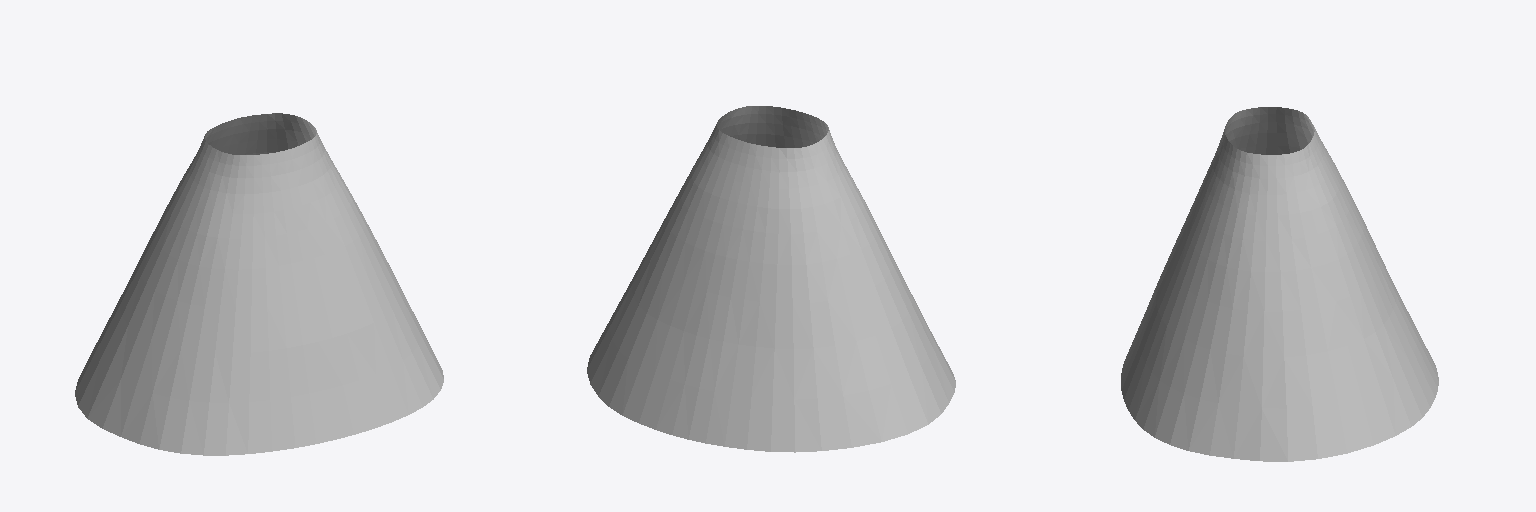
Rendered from 12_skirtlongfull.obj.
The picture shows the model from 3 angles: view 1: azimuth 30°, elevation 25°; view 2: azimuth 150°, elevation 25°; view 3: azimuth 270°, elevation 25°; orthographic projection.
Parts seen in each view (by area): view 1: skirtfront, skirtbackleft, skirtback, skirtbackright; view 2: skirtback, skirtbackleft, skirtfront, skirtbackright; view 3: skirtfront, skirtbackright, skirtback, skirtbackleft.
Boxes of the visible parts, <box> form: skirtfront: <box>87,121,443,455</box>; skirtbackleft: <box>75,127,214,417</box>; skirtback: <box>208,114,267,154</box>; skirtbackright: <box>267,113,314,153</box>; skirtback: <box>622,135,779,451</box>; skirtbackleft: <box>771,142,927,452</box>; skirtfront: <box>717,106,955,424</box>; skirtbackright: <box>587,119,726,414</box>; skirtfront: <box>1121,107,1287,461</box>; skirtbackright: <box>1276,144,1422,461</box>; skirtback: <box>1309,120,1438,416</box>; skirtbackleft: <box>1276,107,1314,154</box>.
Bounding box in the file's own units: 36.85 × 26.85 × 30.8.